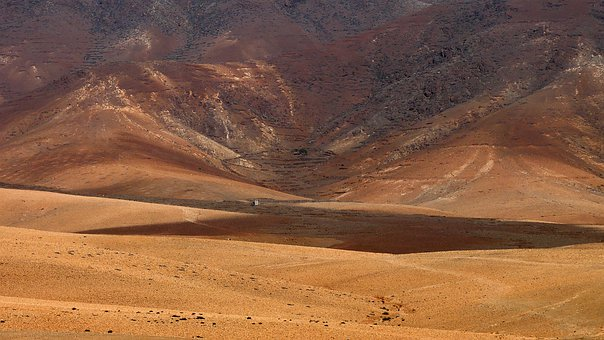desert: (10, 18, 604, 336)
